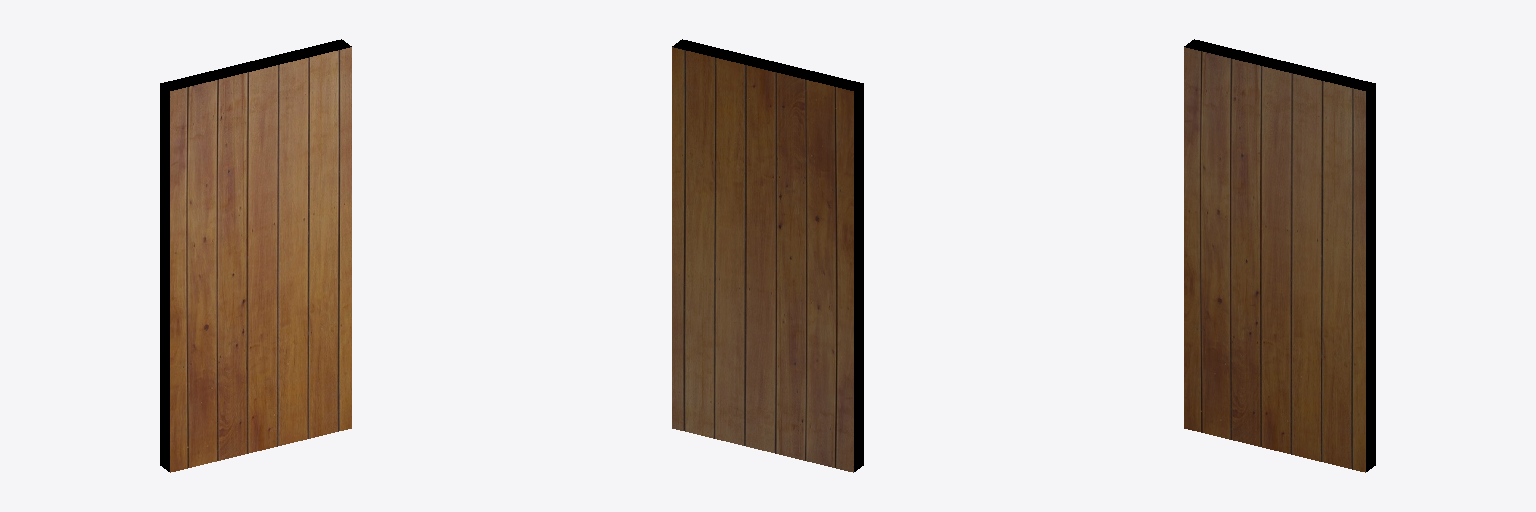
The picture shows the model from 3 angles: view 1: azimuth 30°, elevation 25°; view 2: azimuth 150°, elevation 25°; view 3: azimuth 330°, elevation 25°; orthographic projection.
Visible parts, largest first — view 1: pCube1; view 2: pCube1; view 3: pCube1.
Part boxes in pixels (x1,y1,x2,y2): pCube1: (160,39,351,472); pCube1: (672,39,863,472); pCube1: (1184,39,1375,472).
Bounding box in the file's own units: 1 × 2 × 0.1.
Materials: 1 (1 with a texture image).